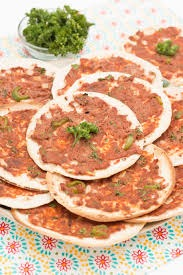lahmacun: (26, 92, 142, 179), (47, 145, 175, 221), (124, 27, 182, 165), (18, 5, 93, 60)
